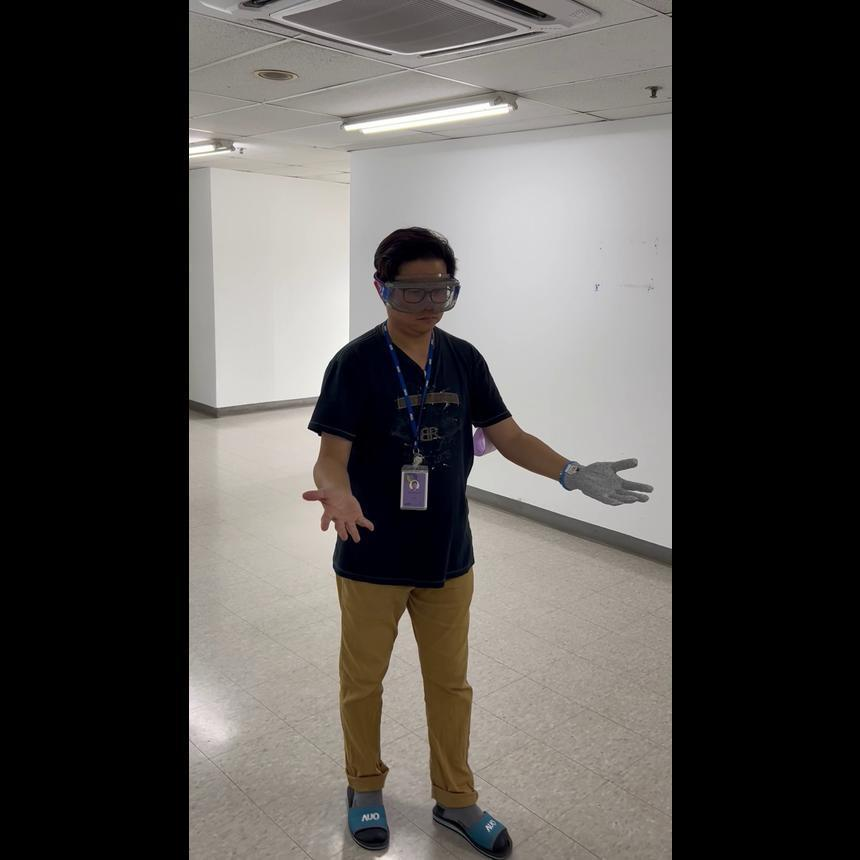Gloves: (557, 452, 651, 510)
No-gloves: (300, 481, 372, 543)
